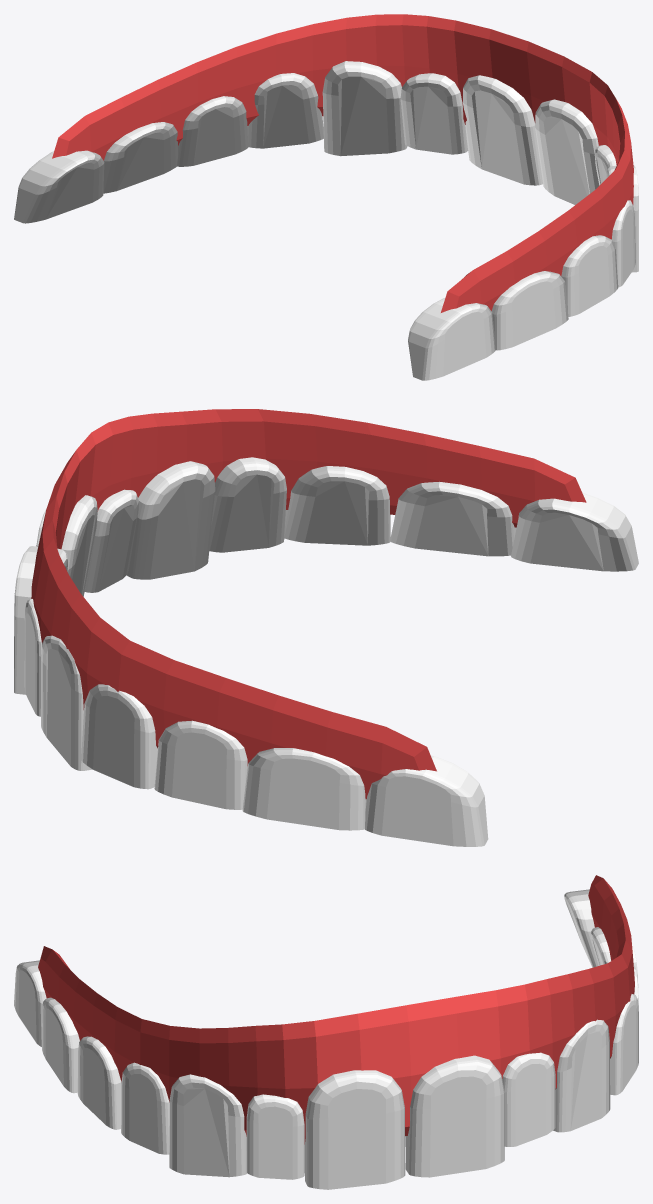
The model's file is teeth_upper.glb.
3 views of the same model, one above another, from view 1: azimuth 30°, elevation 25°; view 2: azimuth 150°, elevation 25°; view 3: azimuth 270°, elevation 25° (orthographic). The views are drawn at different scales.
Visible parts, largest first — view 1: Box001, Box015; view 2: Box001, Box015; view 3: Box001, Box015.
Part boxes in pixels (x1,y1,x2,y2): Box001: (14, 61, 638, 380); Box015: (52, 14, 633, 312); Box001: (14, 457, 638, 846); Box015: (31, 409, 586, 799); Box001: (14, 889, 638, 1189); Box015: (38, 875, 634, 1144).
Bounding box in the file's own units: 3.23 × 1 × 3.42.
